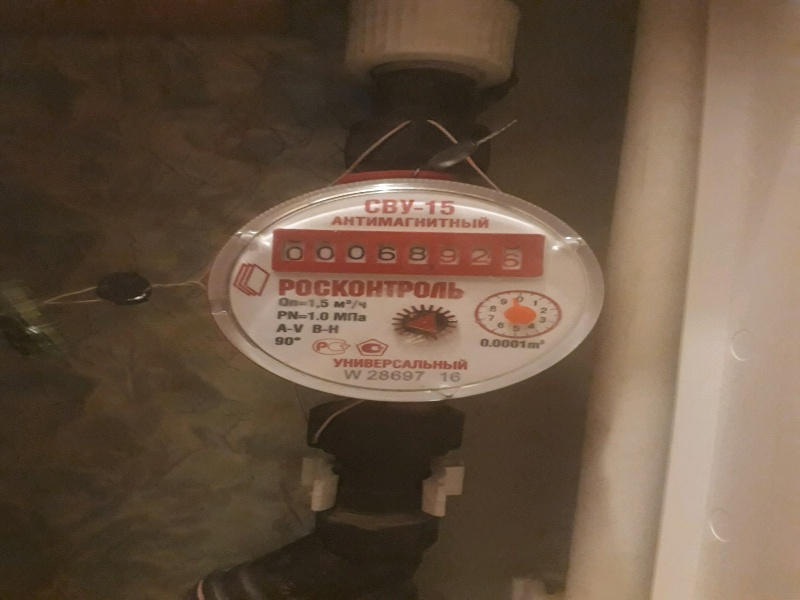dial: (277, 228, 528, 272)
